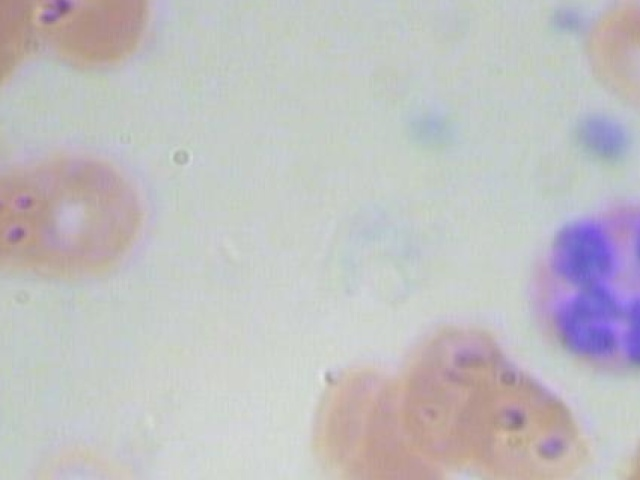Platelets: (565, 109, 631, 164)
RBC: (5, 129, 151, 283), (434, 361, 604, 480), (301, 354, 434, 479), (3, 0, 160, 73), (572, 0, 640, 131), (14, 432, 147, 480), (0, 0, 23, 91)
WBC: (521, 190, 640, 381)
